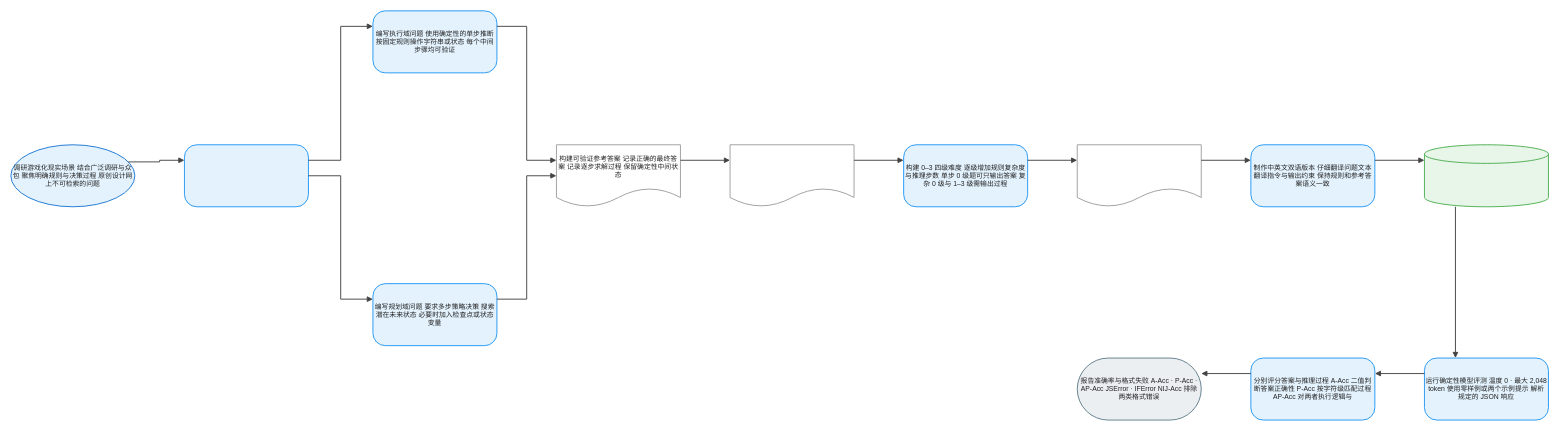
Image size: 1560x432. Some labels were removed from this diagram. The shapes that lost their labels are listed below. From the top down, each one's box as (x1, y1, x2, y2) in pixels, then its label:
(184, 144, 309, 207): 定义两域任务分类 执行域按规则变换当前状态 规划域搜索未来动作序列 覆盖字符串、矩阵、路径与逻辑游戏
(729, 144, 854, 207): 统一结构化输出格式 强制返回 JSON 对象 answer 为字符串列表 需要时 process 为字符串列表
(1077, 144, 1201, 207): 每道题加入两个示例 包含题目与正确答案 包含逐步求解过程 解释规则如何应用
(1424, 144, 1549, 207): 发布 304 道 LogicGame 问题 保留执行域与规划域标签 附带难度、示例与参考过程 对齐两种语言版本
